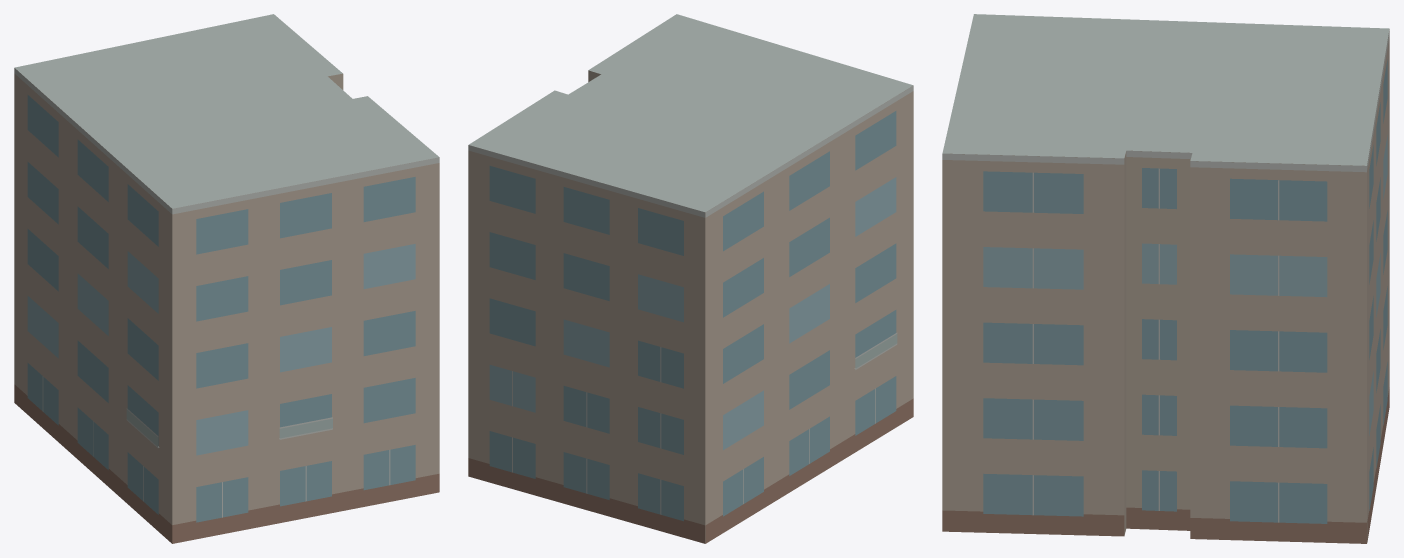
The model's file is survey-upis-32875711.glb.
3 renders of one model, left to right at view 1: azimuth 30°, elevation 25°; view 2: azimuth 150°, elevation 25°; view 3: azimuth 270°, elevation 25°, orthographic. The views are drawn at different scales.
Visible parts, largest first — view 1: survey-upis-32875711.tmp; view 2: survey-upis-32875711.tmp; view 3: survey-upis-32875711.tmp.
Part boxes in pixels (x1,y1,x2,y2): survey-upis-32875711.tmp: [14, 14, 439, 543]; survey-upis-32875711.tmp: [468, 14, 913, 543]; survey-upis-32875711.tmp: [942, 14, 1389, 543].
Bounding box in the file's own units: 12.5 × 14.5 × 15.56.
